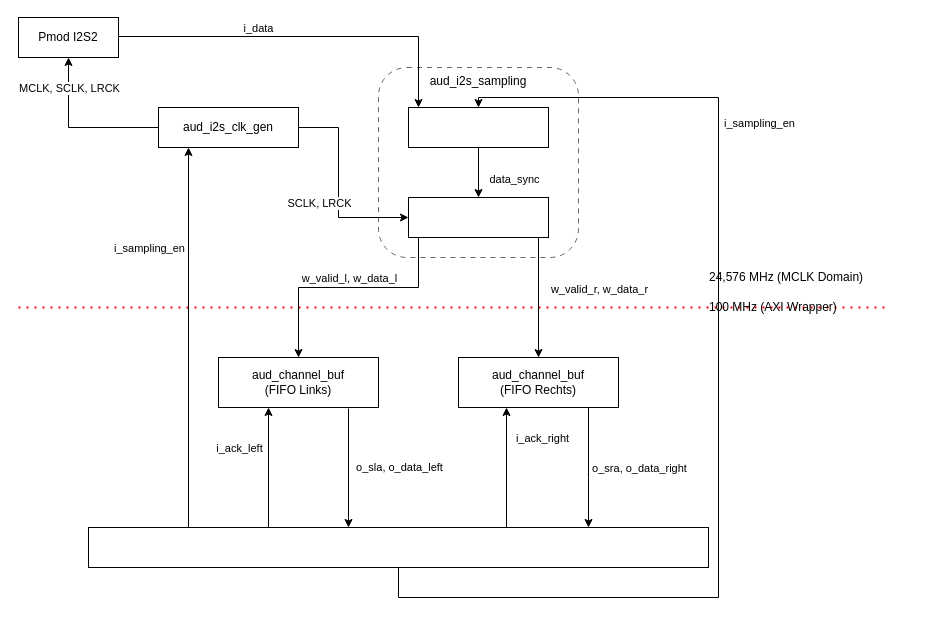
This 934x623 diagram has some shape labels left out. Each missing label, with the box of its shape:
aud_i2s_shreg: (408, 196, 548, 238)
aud_i2s_sync: (408, 106, 548, 148)
AXI Wrapper: (88, 526, 708, 568)
